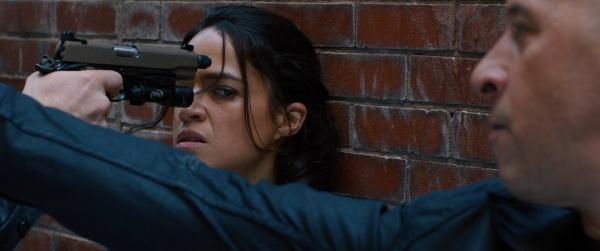Gun: (42, 34, 211, 109)
